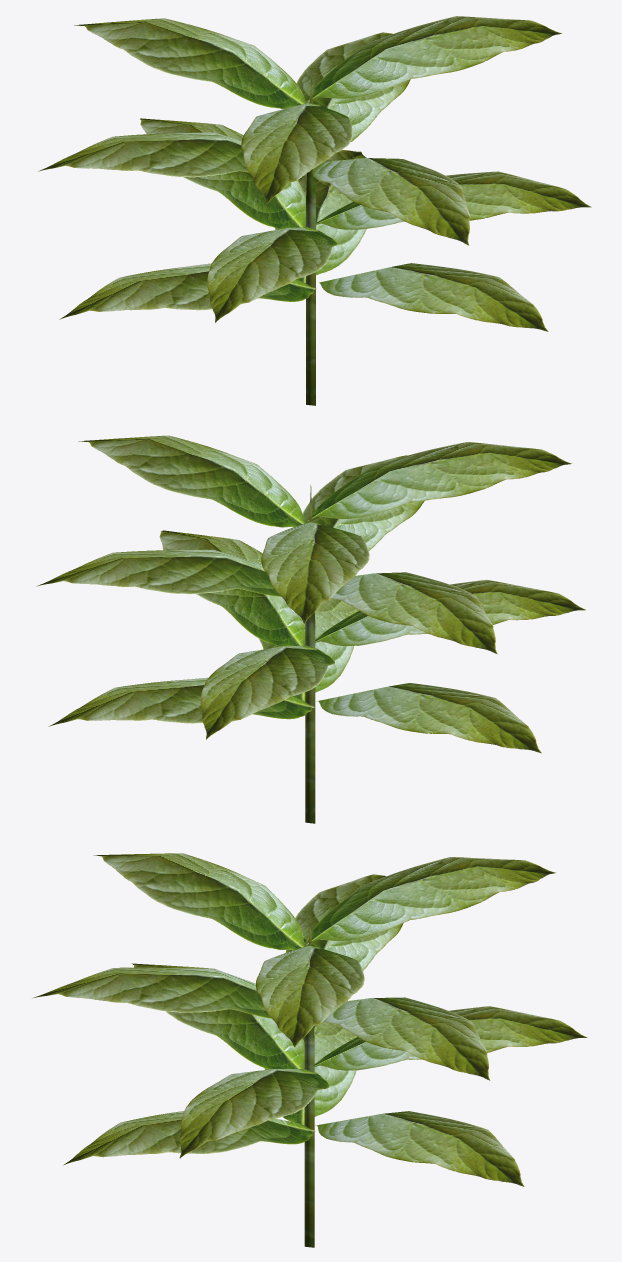
The model's file is plant_006.dae.
3 views of the same model, one above another, from view 1: azimuth 30°, elevation 25°; view 2: azimuth 150°, elevation 25°; view 3: azimuth 270°, elevation 25° (orthographic).
Visible parts, largest first — view 1: Plant_006; view 2: Plant_006; view 3: Plant_006.
Boxes of the visible parts, x1,y1,x2,y2 form: Plant_006: (38,16,591,405); Plant_006: (36,435,585,823); Plant_006: (32,853,587,1247).
Size of the model in its own units: 2.87 by 1.85 by 2.9.
